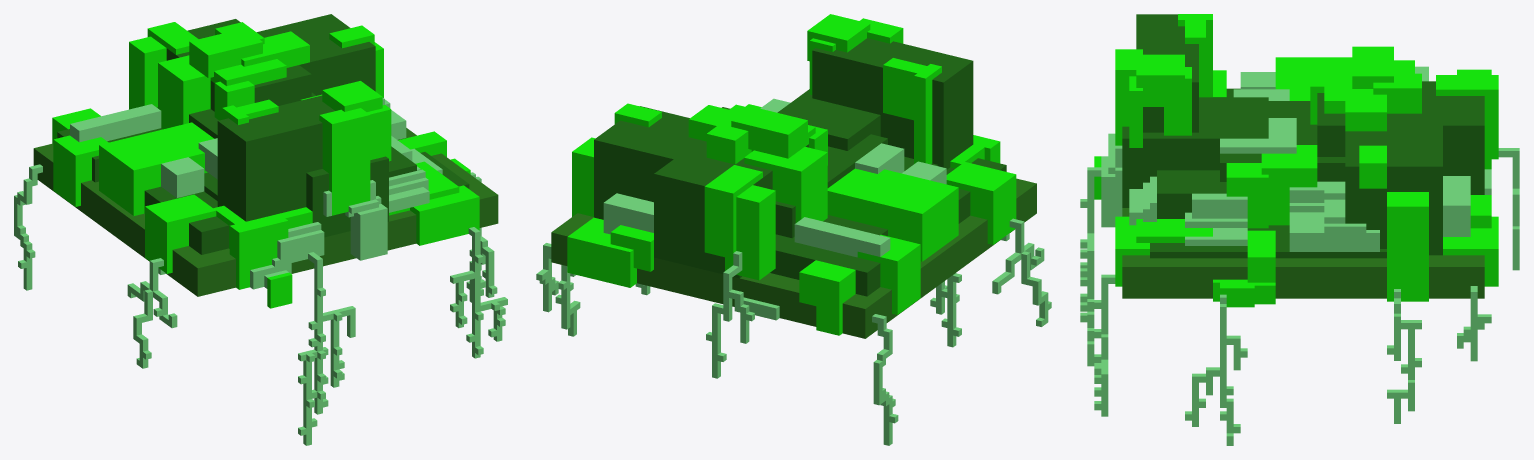
The model's file is House-2.obj.
3 renders of one model, left to right at view 1: azimuth 30°, elevation 25°; view 2: azimuth 150°, elevation 25°; view 3: azimuth 270°, elevation 25°, orthographic. The views are drawn at different scales.
Size of the model in its own units: 6.7 by 5.4 by 6.3.
Materials: 1 (1 with a texture image).
